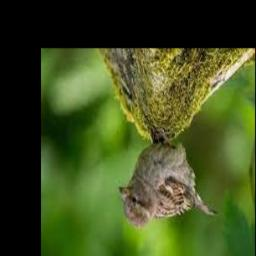Sparrow: (118, 129, 217, 230)
